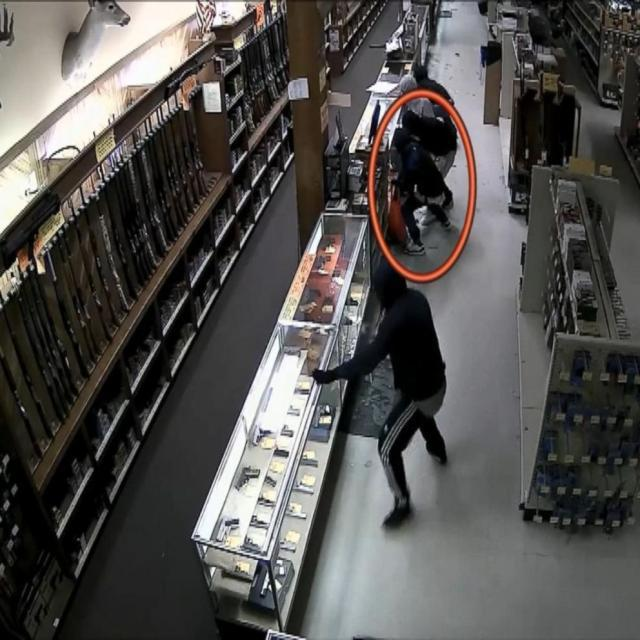pistol: (311, 348, 335, 398)
